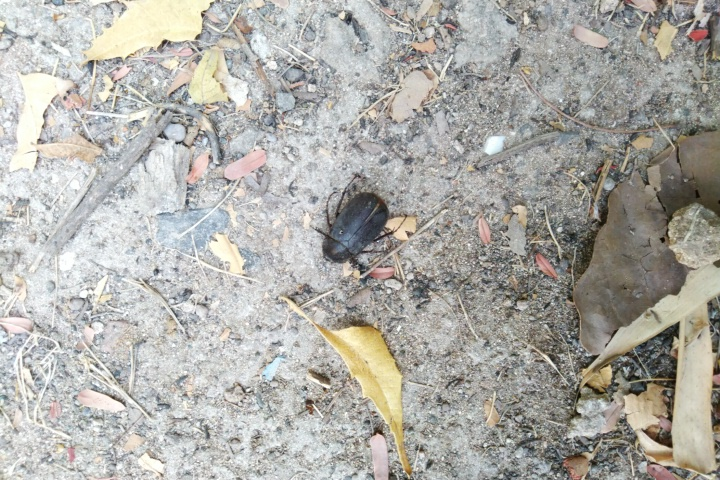INS-A: (304, 166, 415, 283)
